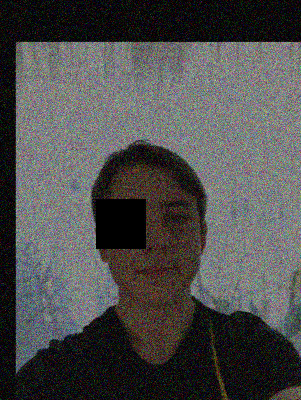without_mask: (104, 196, 202, 305)
